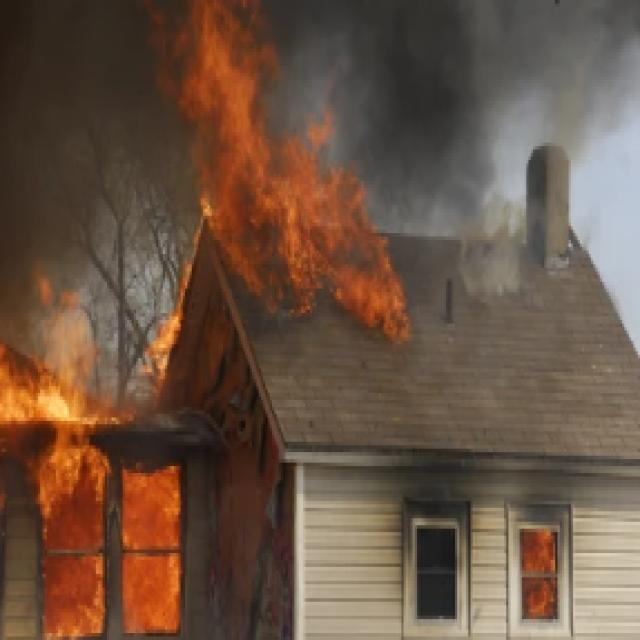Fire: (150, 0, 409, 344), (0, 287, 183, 640)
Smoke: (293, 0, 638, 235), (0, 0, 173, 327)
